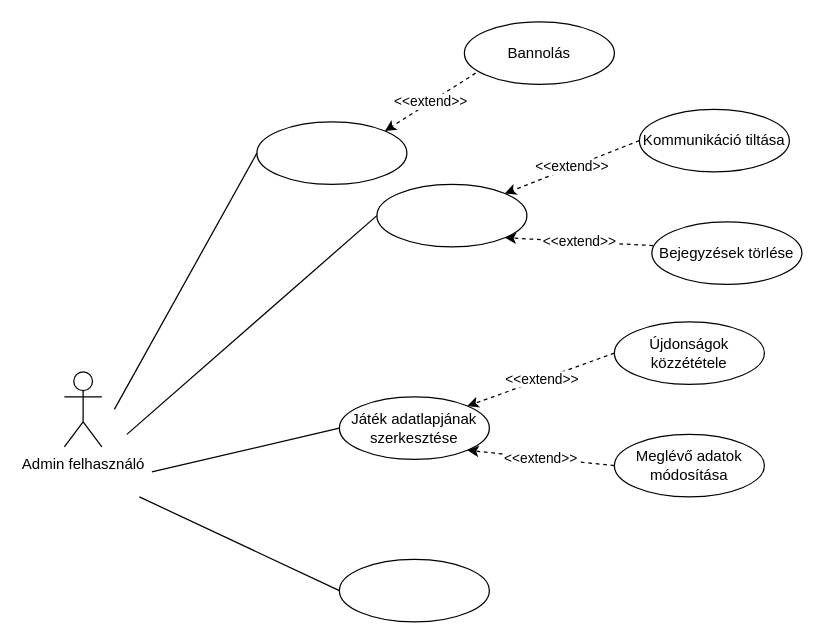
Some shapes in this 824 by 644 pixel diagram are drawn without their labels. The shapes that lost their labels are listed below. From the top down, each one's centre as x and y in pixels, then its label:
(331,152): Szerver moderáció
(451,215): Fórum moderáció
(413,590): Admin jogosultságot adása
